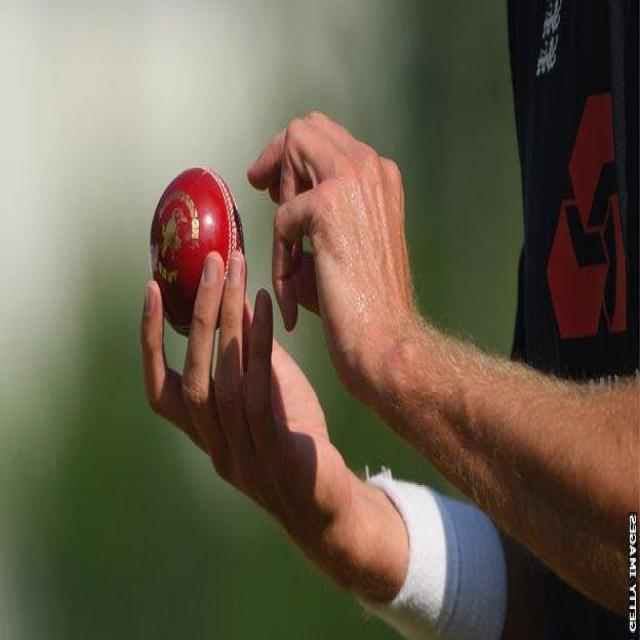ball: (145, 172, 245, 338)
